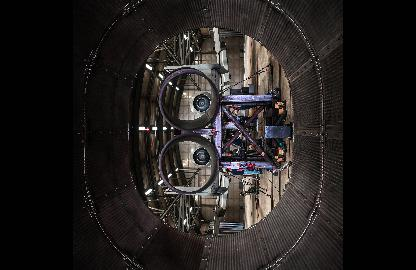A10: (164, 26, 249, 236)
